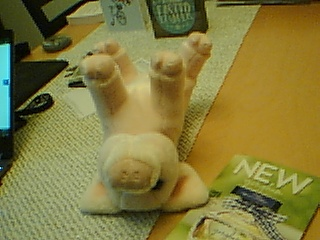piggy: (74, 30, 216, 218)
